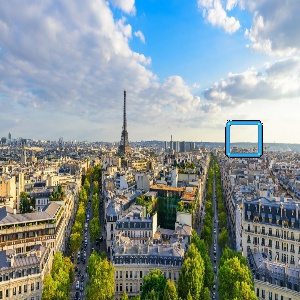square: (223, 117, 264, 158)
